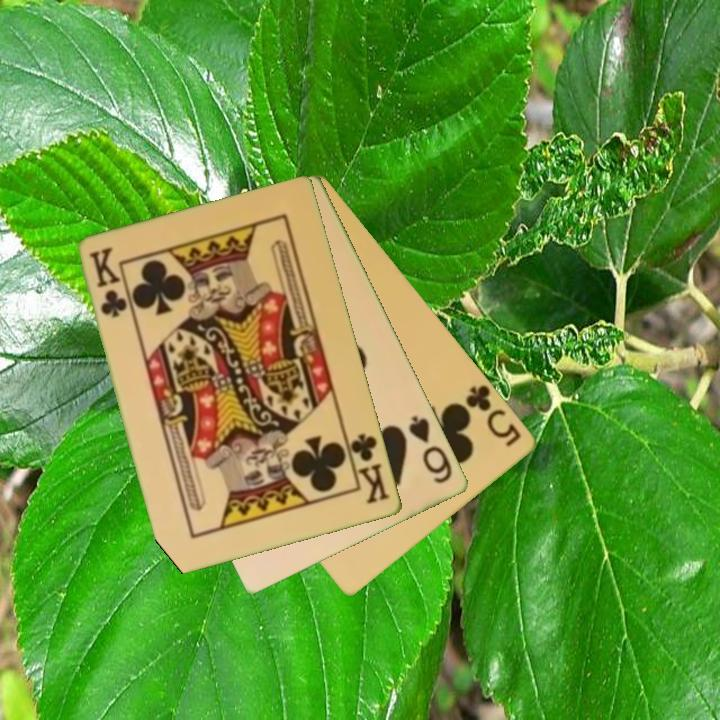5c: (462, 381, 525, 450)
6s: (405, 412, 456, 487)
Kc: (343, 430, 394, 507), (86, 244, 130, 322)
